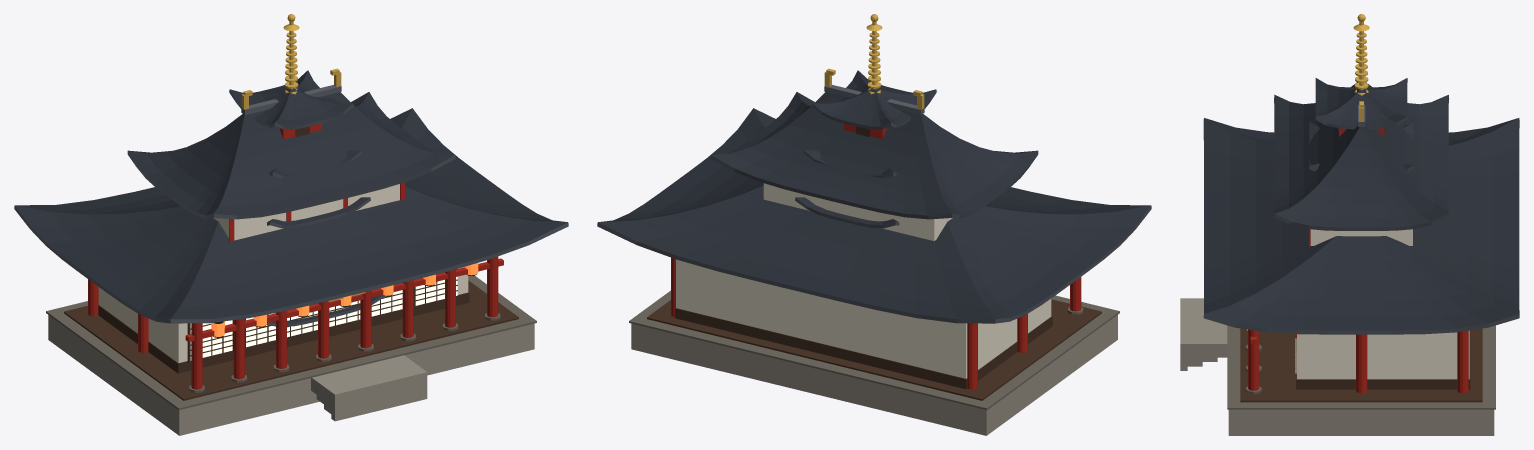
The model's file is temple-kit.glb.
3 renders of one model, left to right at view 1: azimuth 30°, elevation 25°; view 2: azimuth 150°, elevation 25°; view 3: azimuth 270°, elevation 25°, orthographic.
Parts seen in each view (by area): view 1: HallMesh, PagodaMesh; view 2: HallMesh, PagodaMesh; view 3: HallMesh, PagodaMesh.
Part boxes in pixels (x1,y1,x2,y2): HallMesh: (14, 68, 568, 435); PagodaMesh: (229, 14, 384, 326); HallMesh: (597, 68, 1151, 435); PagodaMesh: (795, 14, 936, 228); HallMesh: (1180, 82, 1519, 435); PagodaMesh: (1309, 14, 1413, 171).
Size of the model in its own units: 28 by 22.21 by 20.45.
